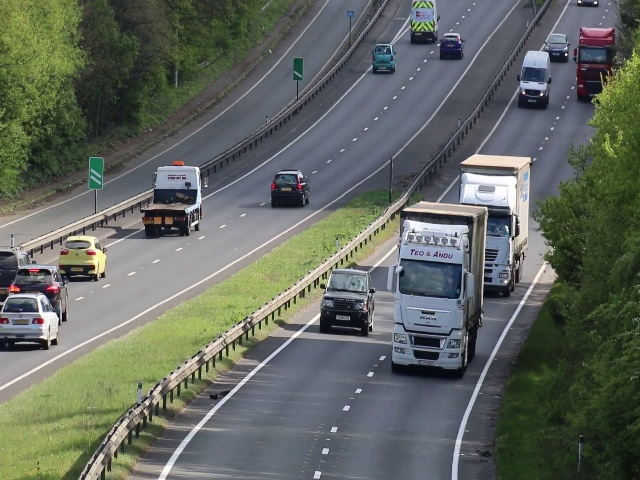car: (386, 238, 474, 383), (140, 165, 203, 236), (490, 185, 528, 299), (321, 266, 375, 337), (1, 293, 59, 354), (59, 234, 107, 281), (516, 50, 551, 107), (267, 168, 310, 208), (575, 36, 598, 103), (408, 1, 438, 45), (17, 267, 62, 290), (370, 41, 396, 76), (439, 33, 464, 61), (547, 33, 569, 53)
